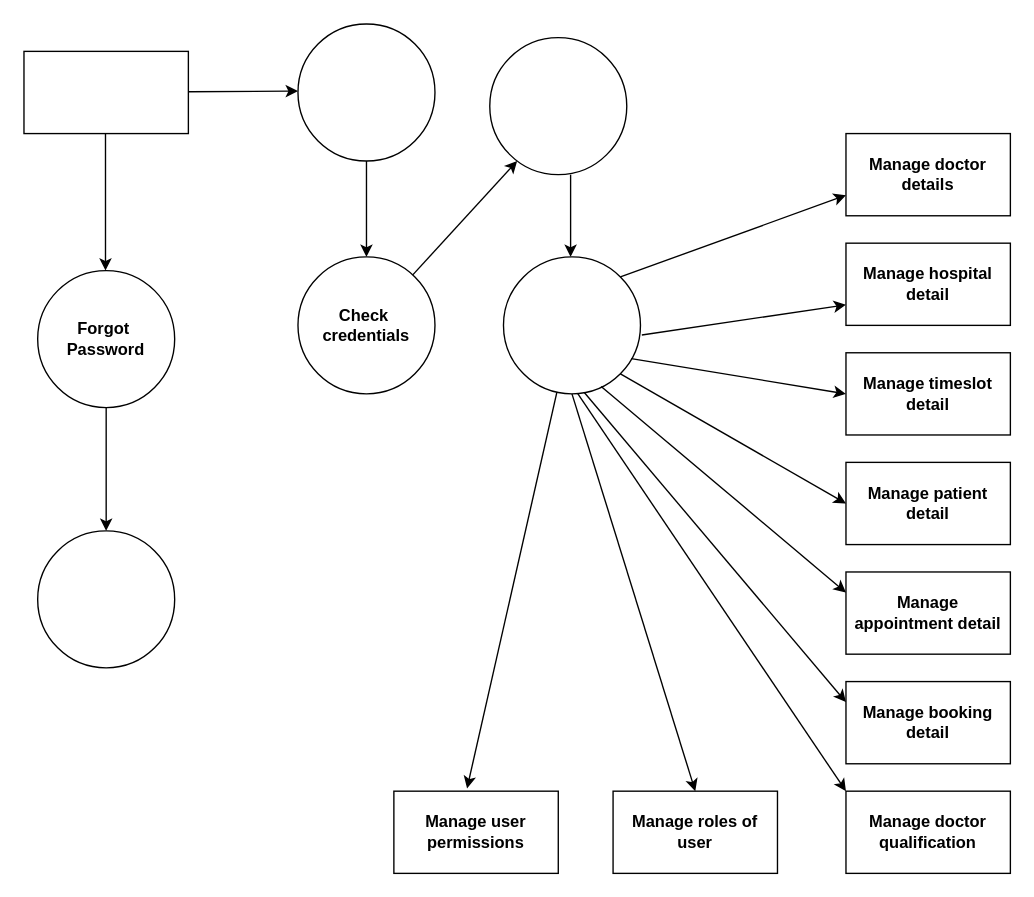
Some shapes in this 1034 by 897 pixel diagram are drawn without their labels. The shapes that lost their labels are listed below. From the top down, each one's box as (x1, y1, x2, y2) in pixels, then its label:
(23, 50, 188, 134): Admin
(297, 23, 435, 161): Login to system
(488, 36, 627, 175): Check roles of access
(502, 256, 640, 394): Manage modules
(36, 530, 175, 668): Send email to user
